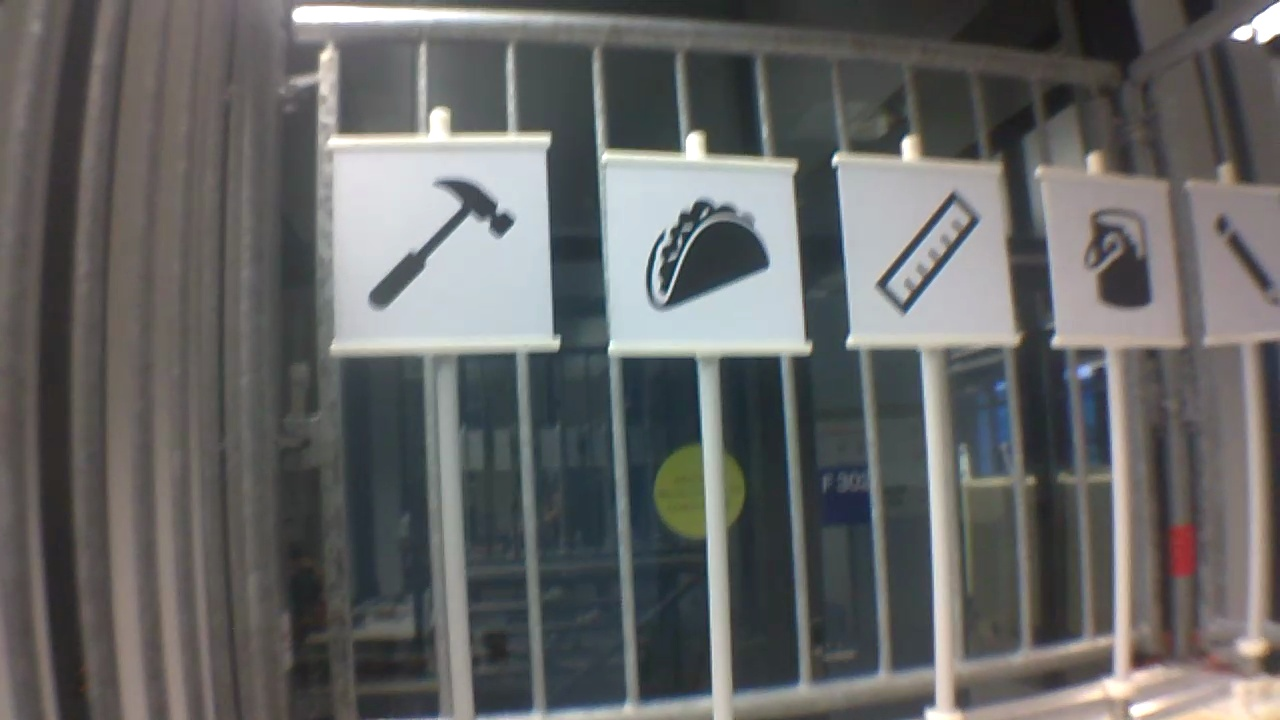bucket: (1077, 203, 1157, 315)
hammer: (363, 174, 524, 315)
pencil: (1207, 207, 1280, 312)
ruler: (866, 181, 986, 319)
taco: (641, 188, 778, 313)
